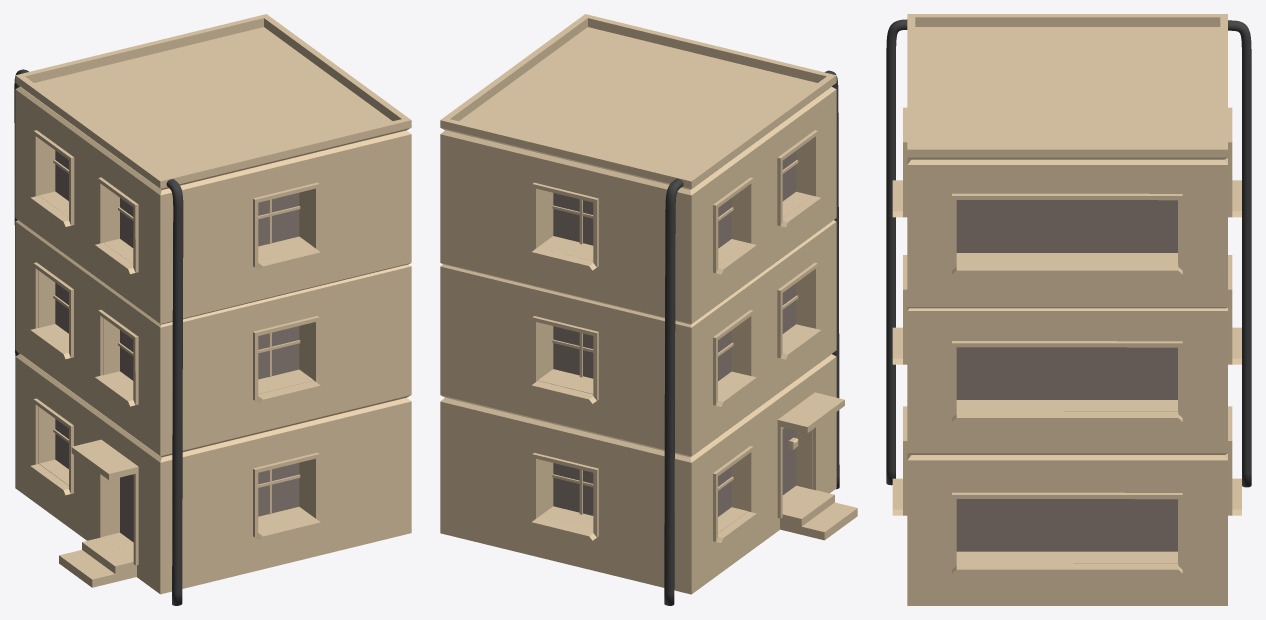
File: Haus01.fbx
3 renders of one model, left to right at view 1: azimuth 30°, elevation 25°; view 2: azimuth 150°, elevation 25°; view 3: azimuth 270°, elevation 25°, orthographic. The views are drawn at different scales.
Parts seen in each view (by area): view 1: Haus, Treppe; view 2: Haus, Treppe; view 3: Haus.
Part boxes in pixels (x1=…): Haus: x1=14, y1=14, x2=411, y2=605; Treppe: x1=59, y1=537, x2=136, y2=587; Haus: x1=440, y1=14, x2=844, y2=605; Treppe: x1=780, y1=489, x2=857, y2=540; Haus: x1=886, y1=14, x2=1251, y2=605.
Bounding box in the file's own units: 408 × 532 × 380.
